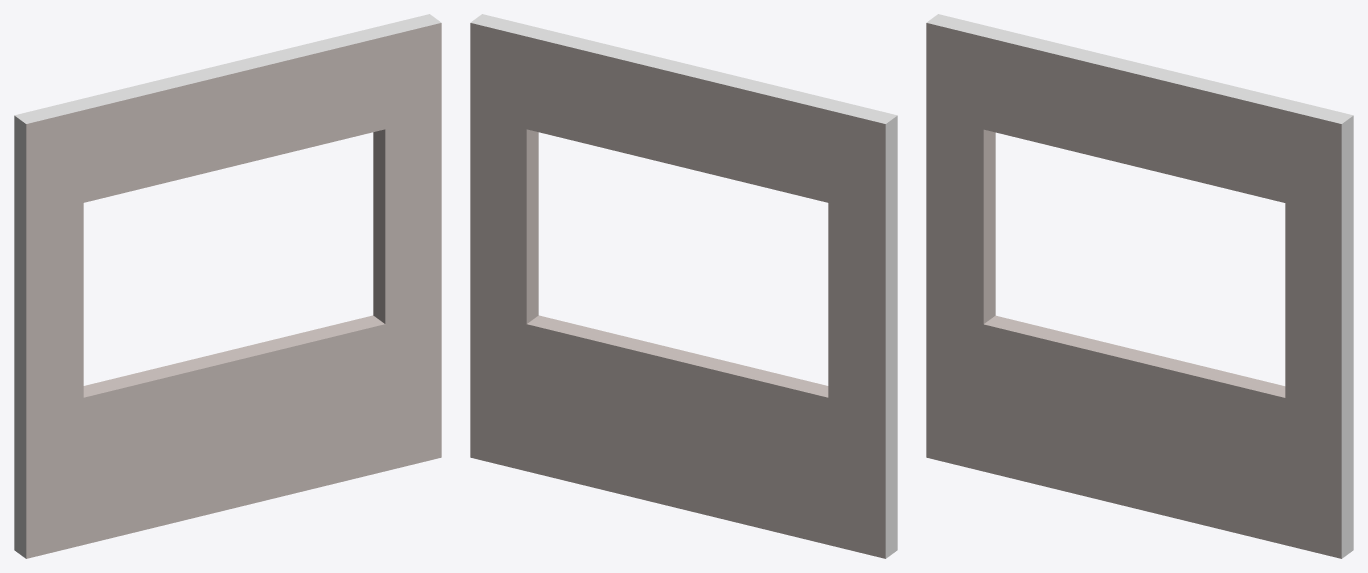
The model's file is wall_092.fbx.
3 views of the same model, side by side, from view 1: azimuth 30°, elevation 25°; view 2: azimuth 150°, elevation 25°; view 3: azimuth 330°, elevation 25° (orthographic).
Visible parts, largest first — view 1: wall_092; view 2: wall_092; view 3: wall_092.
Boxes of the visible parts, x1,y1,x2,y2 form: wall_092: (14, 14, 441, 558); wall_092: (470, 14, 897, 558); wall_092: (926, 14, 1353, 558).
Size of the model in its own units: 400 by 20 by 400.
